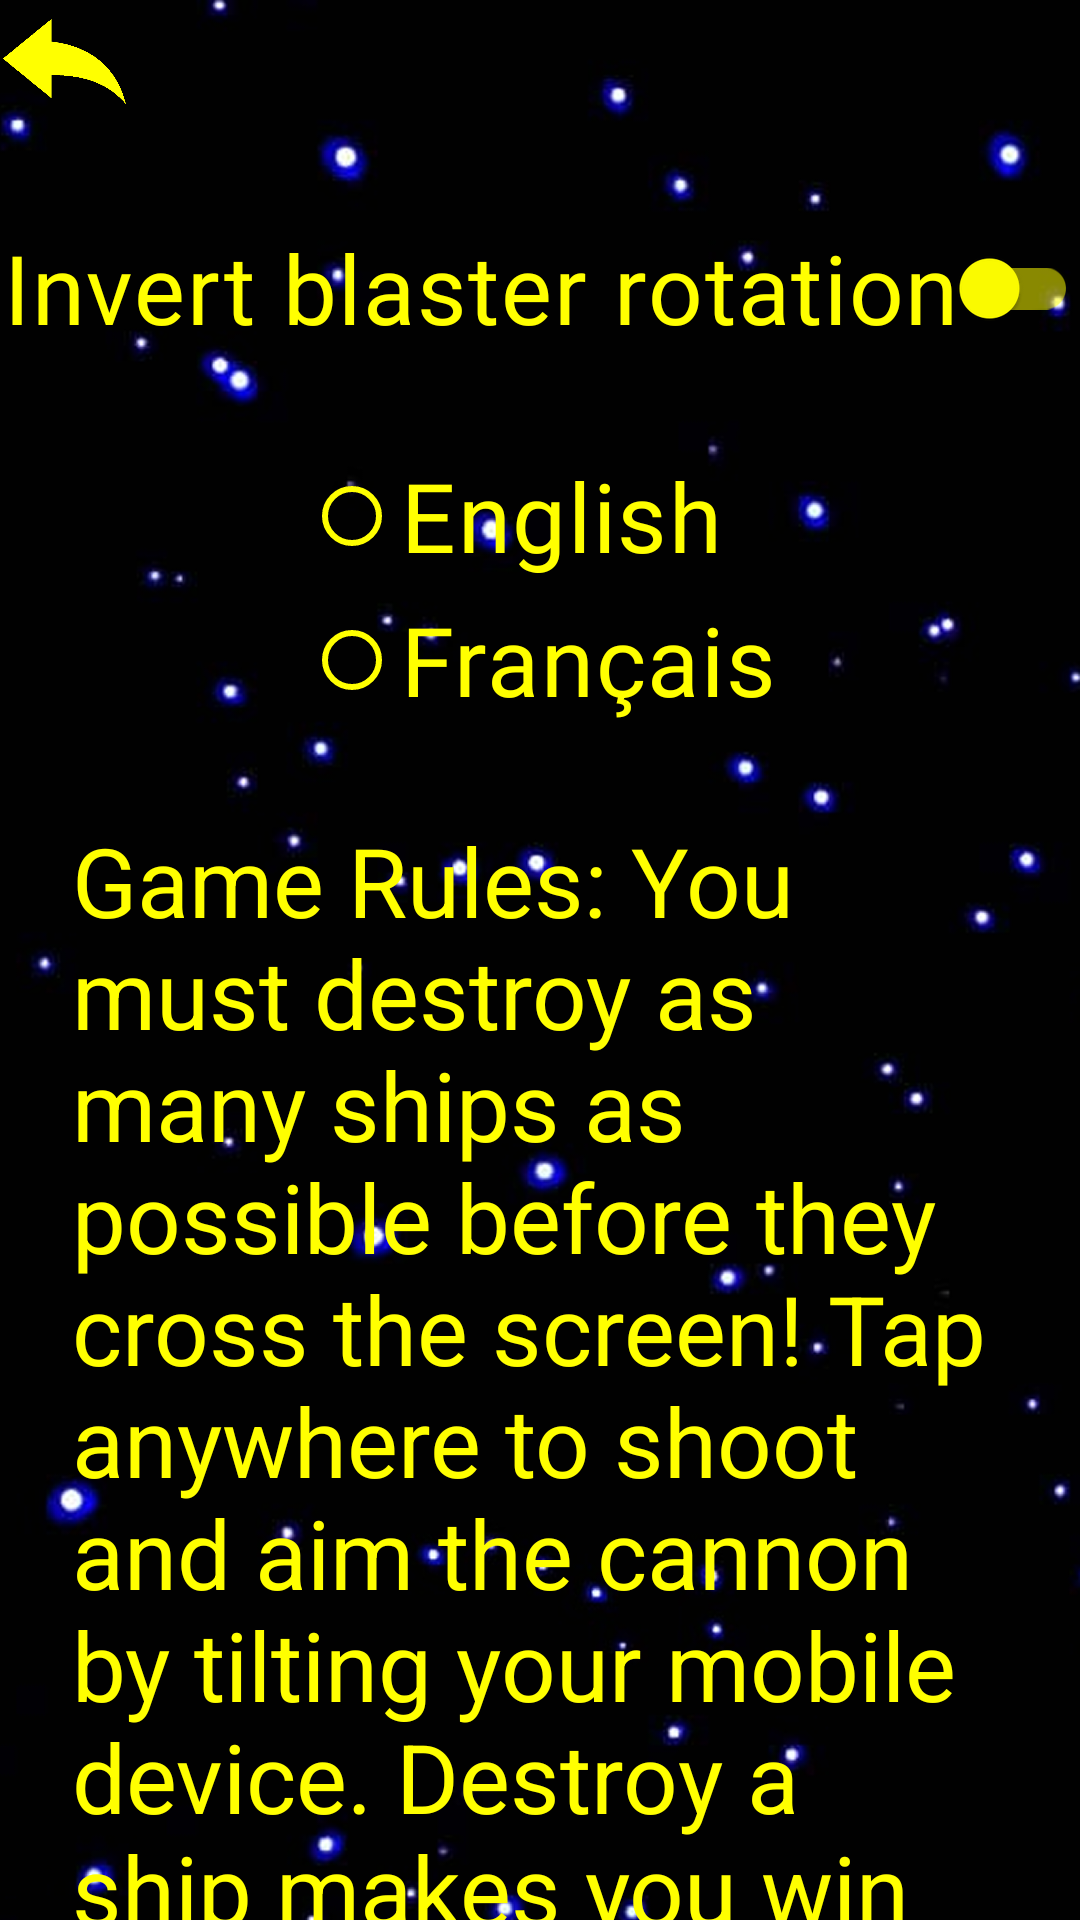

Named icons in this screenshot (1080*1920) and their centers, (x,y):
returnarrow: (64,61)
